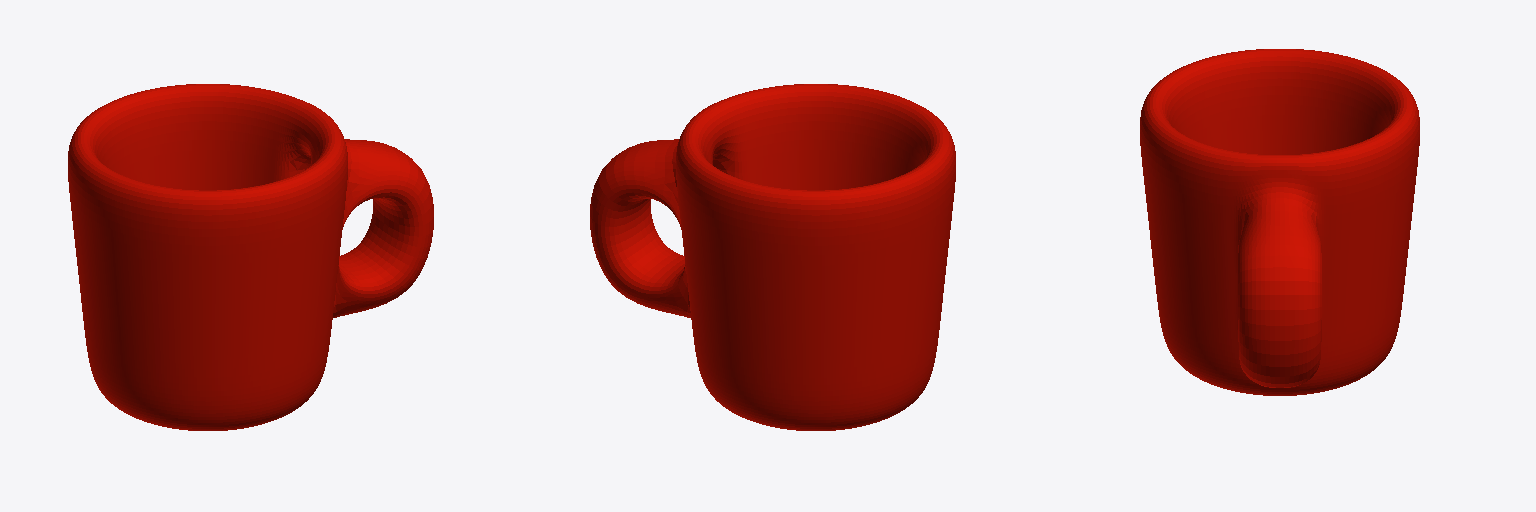
The model's file is colored-cup1.obj.
3 views of the same model, side by side, from view 1: azimuth 30°, elevation 25°; view 2: azimuth 150°, elevation 25°; view 3: azimuth 270°, elevation 25° (orthographic).
Visible parts, largest first — view 1: Circle.001; view 2: Circle.001; view 3: Circle.001.
Boxes of the visible parts, x1=… form: Circle.001: x1=68, y1=84, x2=433, y2=430; Circle.001: x1=590, y1=84, x2=955, y2=430; Circle.001: x1=1140, y1=49, x2=1419, y2=395.
Bounding box in the file's own units: 4.57 × 3.35 × 3.28.